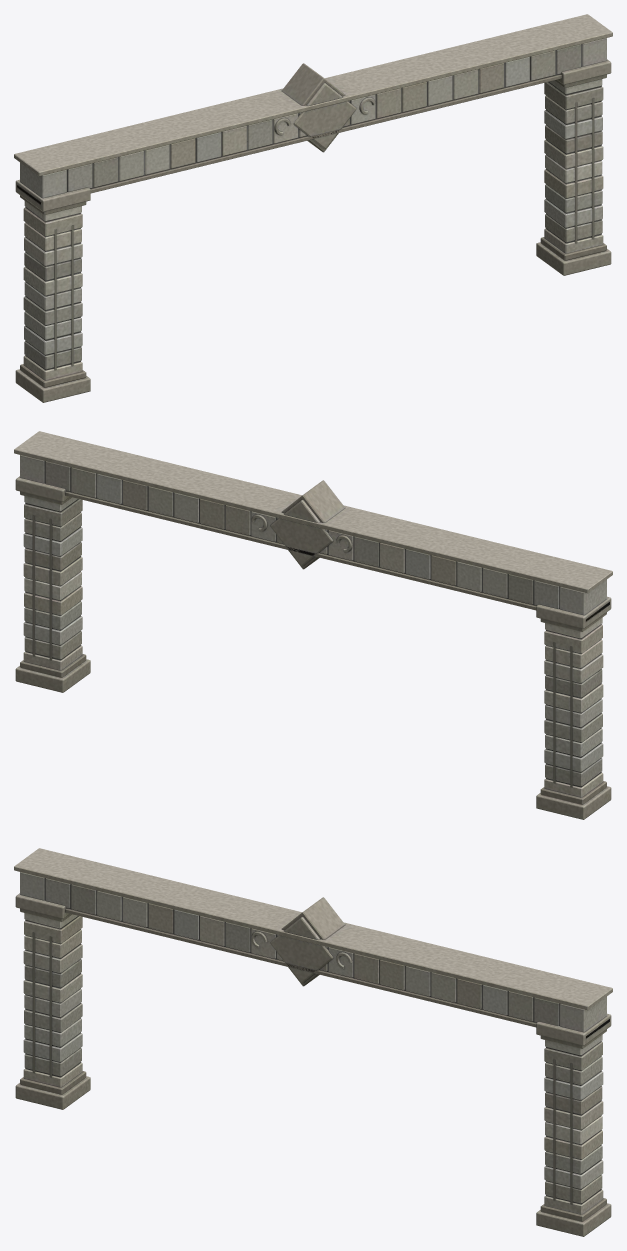
Rendered from kit_gate.glb.
3 renders of one model, top to bottom at view 1: azimuth 30°, elevation 25°; view 2: azimuth 150°, elevation 25°; view 3: azimuth 330°, elevation 25°, orthographic.
Parts seen in each view (by area): view 1: box; view 2: box; view 3: box.
Part boxes in pixels (x1,y1,x2,y2): box: [14, 14, 612, 402]; box: [14, 431, 612, 819]; box: [14, 848, 612, 1236].
Bounding box in the file's own units: 40.6 × 17.11 × 3.4.
Materials: 1 (1 with a texture image).
